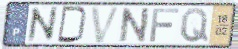D: (56, 5, 90, 45)
F: (148, 7, 181, 43)
N: (26, 5, 59, 44), (118, 7, 152, 44)
Q: (179, 7, 209, 44)
V: (89, 5, 123, 45)
